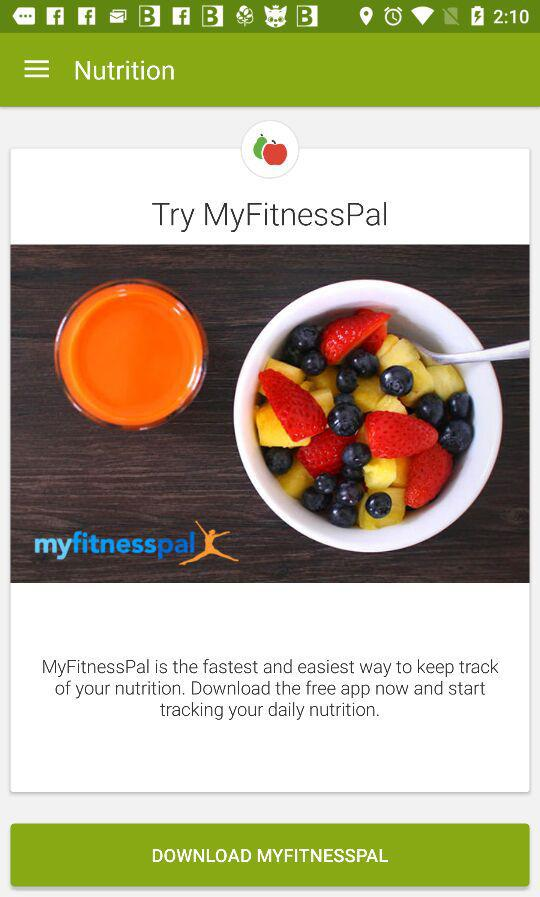Card: (9, 147, 532, 795)
Icon: (24, 60, 51, 80)
Image: (12, 246, 530, 584), (241, 121, 300, 180)
Text: (43, 658, 499, 721), (152, 202, 387, 234), (76, 60, 176, 82)
TextButton: (10, 822, 530, 887)
Toolbar: (1, 34, 540, 108)
UpperTaskBar: (1, 1, 540, 33)
